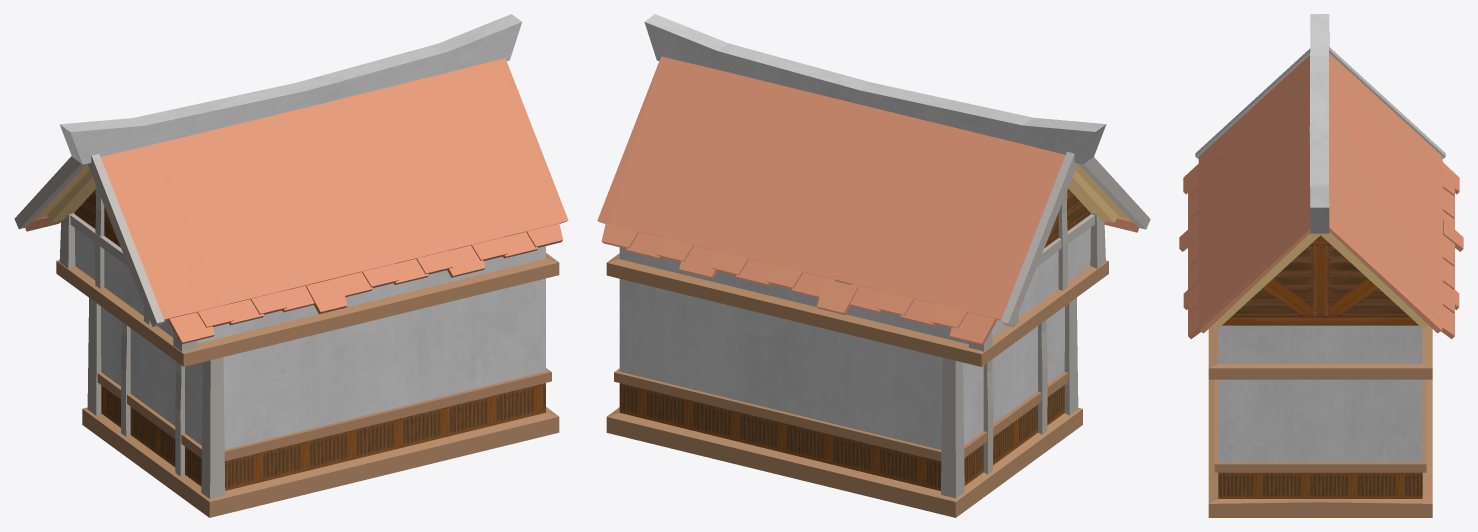
Rendered from Building_A_02.fbx.
3 views of the same model, side by side, from view 1: azimuth 30°, elevation 25°; view 2: azimuth 150°, elevation 25°; view 3: azimuth 270°, elevation 25° (orthographic). The views are drawn at different scales.
Visible parts, largest first — view 1: Building_A_02; view 2: Building_A_02; view 3: Building_A_02.
Part boxes in pixels (box(x1,y1,x2,y2)): Building_A_02: box(14, 14, 568, 517); Building_A_02: box(597, 14, 1150, 517); Building_A_02: box(1179, 14, 1463, 517).
Size of the model in its own units: 1628 by 1251 by 1009.
